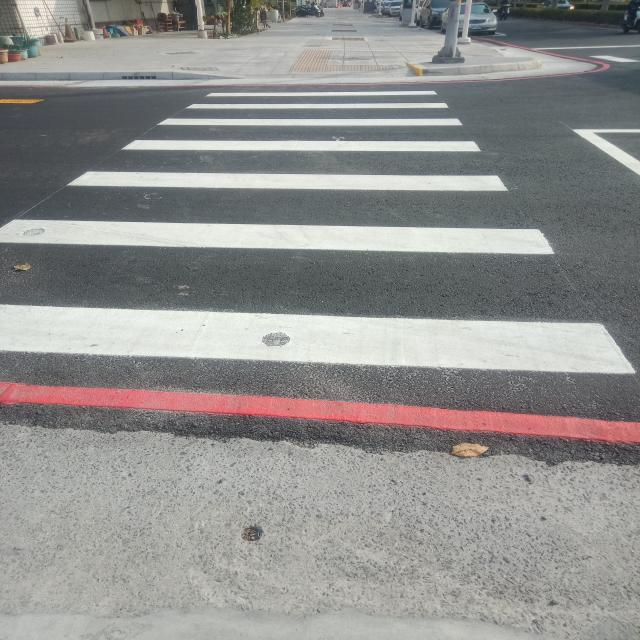zebra crossing: (0, 91, 597, 363)
